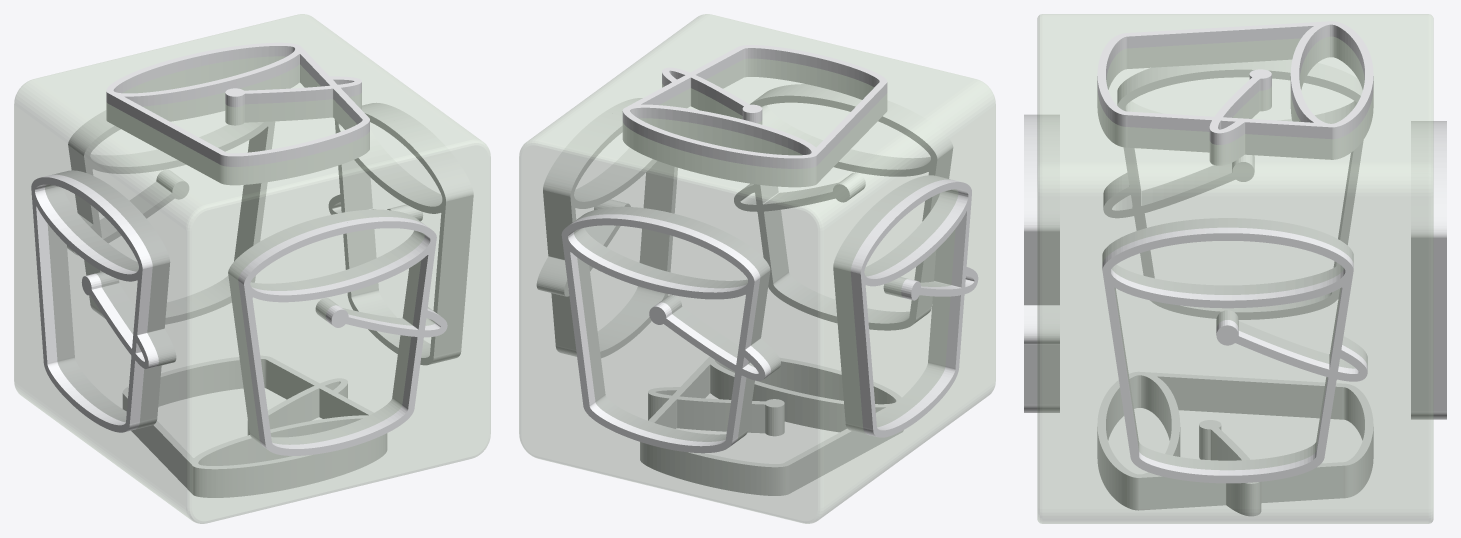
The picture shows the model from 3 angles, left to right: view 1: azimuth 30°, elevation 25°; view 2: azimuth 150°, elevation 25°; view 3: azimuth 270°, elevation 25°; orthographic projection. The views are drawn at different scales.
Parts seen in each view (by area): view 1: Glass, Glyph Top, Glyph Left, Glyph Front, Glyph Bottom, Glyph Right, Glyph Back; view 2: Glass, Glyph Top, Glyph Back, Glyph Left, Glyph Bottom, Glyph Right, Glyph Front; view 3: Glass, Glyph Top, Glyph Right, Glyph Bottom, Glyph Left, Glyph Front, Glyph Back.
Boxes of the visible parts, x1,y1,x2,y2 form: Glass: [14, 14, 490, 523]; Glyph Top: [106, 42, 369, 185]; Glyph Left: [31, 170, 176, 432]; Glyph Front: [228, 209, 447, 455]; Glyph Bottom: [122, 355, 387, 497]; Glyph Right: [328, 103, 473, 365]; Glyph Back: [67, 110, 275, 324]; Glass: [519, 14, 995, 523]; Glyph Top: [622, 45, 887, 187]; Glyph Back: [561, 206, 780, 453]; Glyph Left: [833, 175, 978, 437]; Glyph Bottom: [640, 356, 903, 495]; Glyph Right: [536, 98, 677, 358]; Glyph Front: [734, 84, 953, 330]; Glass: [1037, 14, 1433, 523]; Glyph Top: [1097, 21, 1373, 165]; Glyph Right: [1102, 218, 1367, 483]; Glyph Bottom: [1097, 371, 1373, 516]; Glyph Left: [1103, 59, 1363, 319]; Glyph Front: [1024, 114, 1059, 412]; Glyph Back: [1411, 121, 1446, 419].
Bounding box in the file's own units: 2.13 × 2.13 × 2.13.
